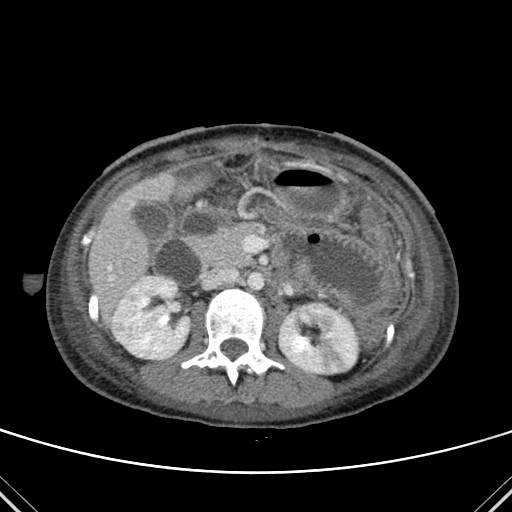vesicula: (129, 198, 170, 241)
